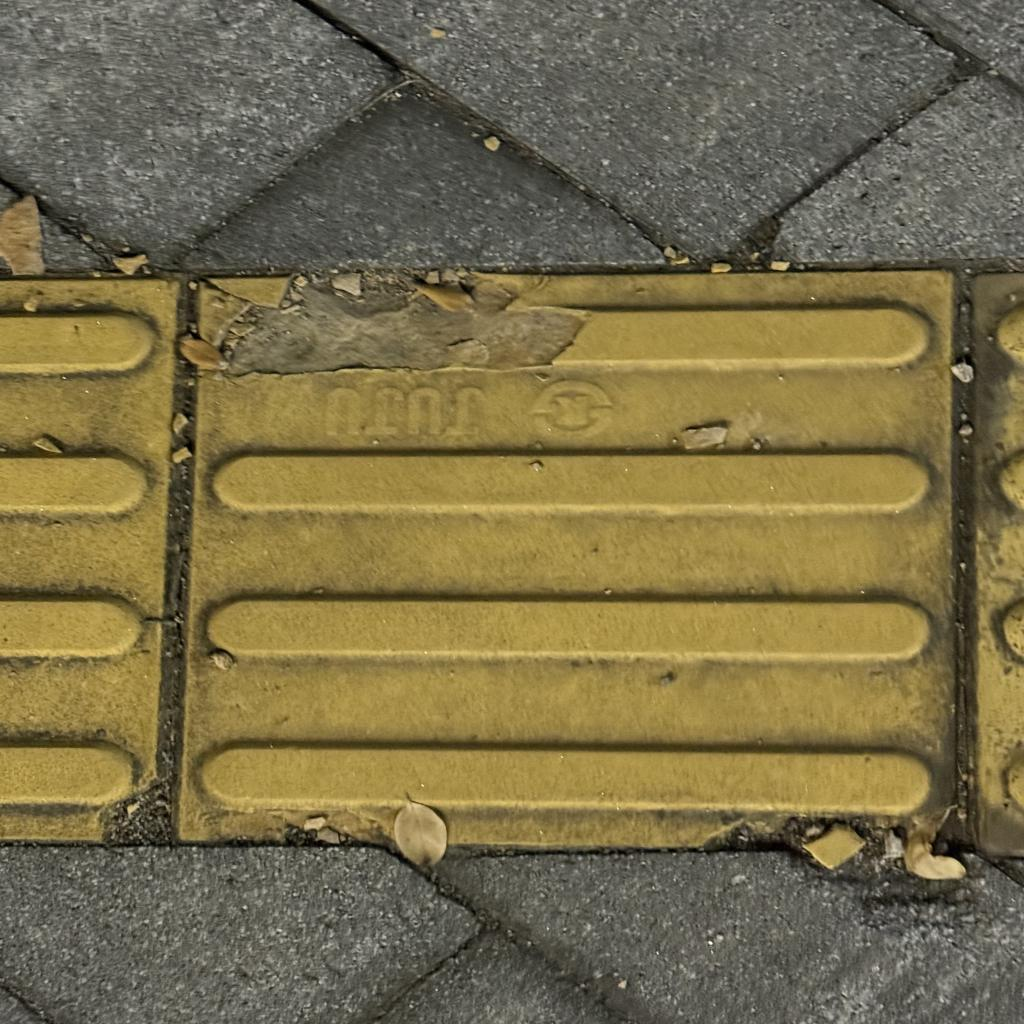Straight block broken: (178, 275, 949, 845)
